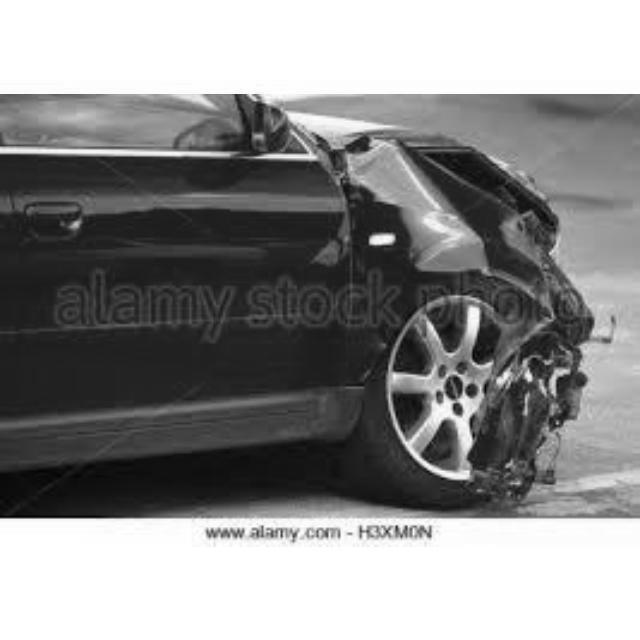fender-dent: (348, 135, 563, 314)
